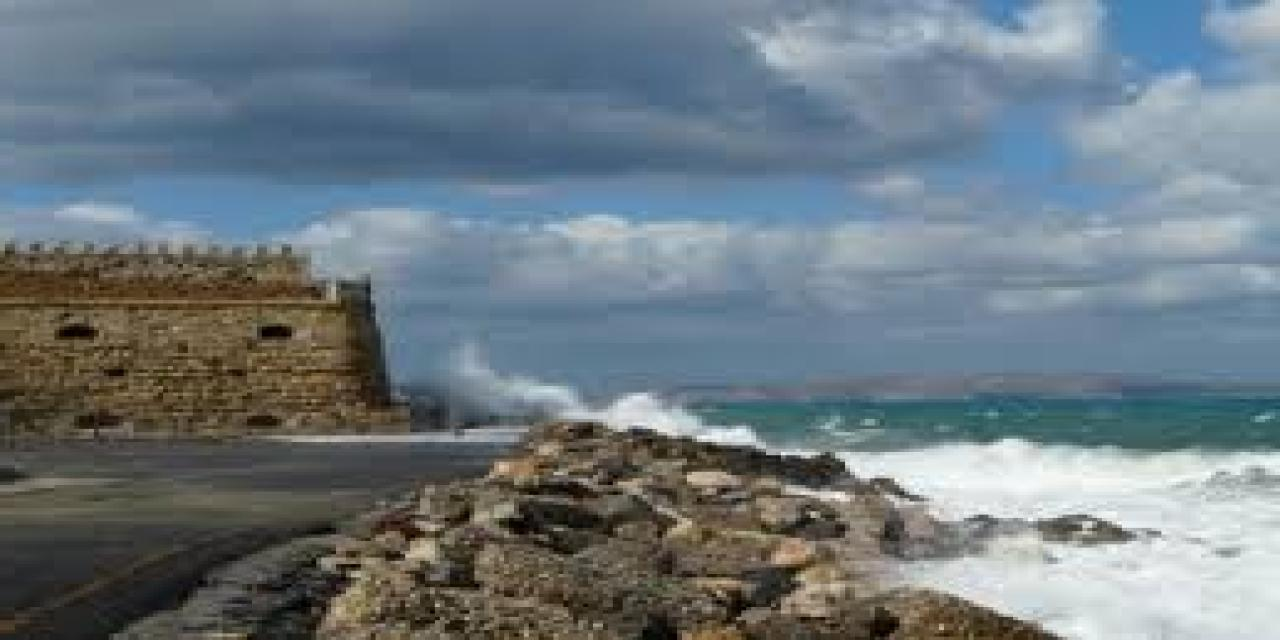Kules: (1, 231, 420, 439)
